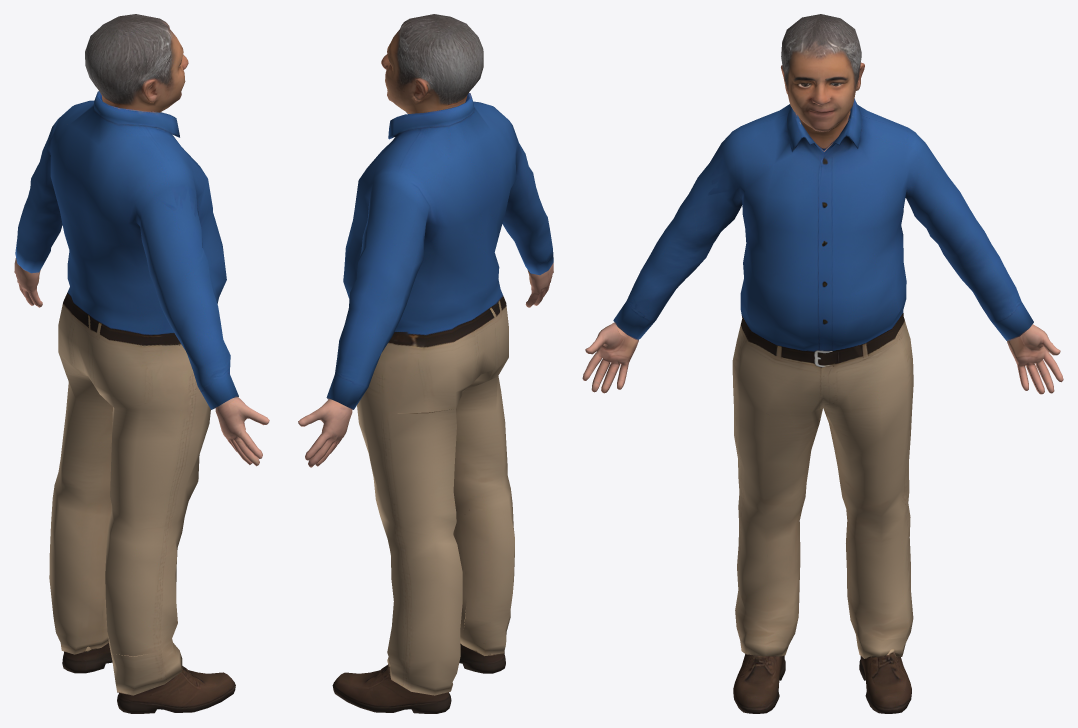
3 renders of one model, left to right at view 1: azimuth 30°, elevation 25°; view 2: azimuth 150°, elevation 25°; view 3: azimuth 270°, elevation 25°, orthographic.
Visible parts, largest first — view 1: tripo_node_3635155d-91a2-4200-8886-e4681bfbf356; view 2: tripo_node_3635155d-91a2-4200-8886-e4681bfbf356; view 3: tripo_node_3635155d-91a2-4200-8886-e4681bfbf356.
Part boxes in pixels (x1,y1,x2,y2): tripo_node_3635155d-91a2-4200-8886-e4681bfbf356: (14, 14, 269, 713); tripo_node_3635155d-91a2-4200-8886-e4681bfbf356: (298, 14, 553, 713); tripo_node_3635155d-91a2-4200-8886-e4681bfbf356: (582, 14, 1063, 713).
Size of the model in its own units: 0.2124 by 0.9995 by 0.6538.
1 material, 1 textured.
